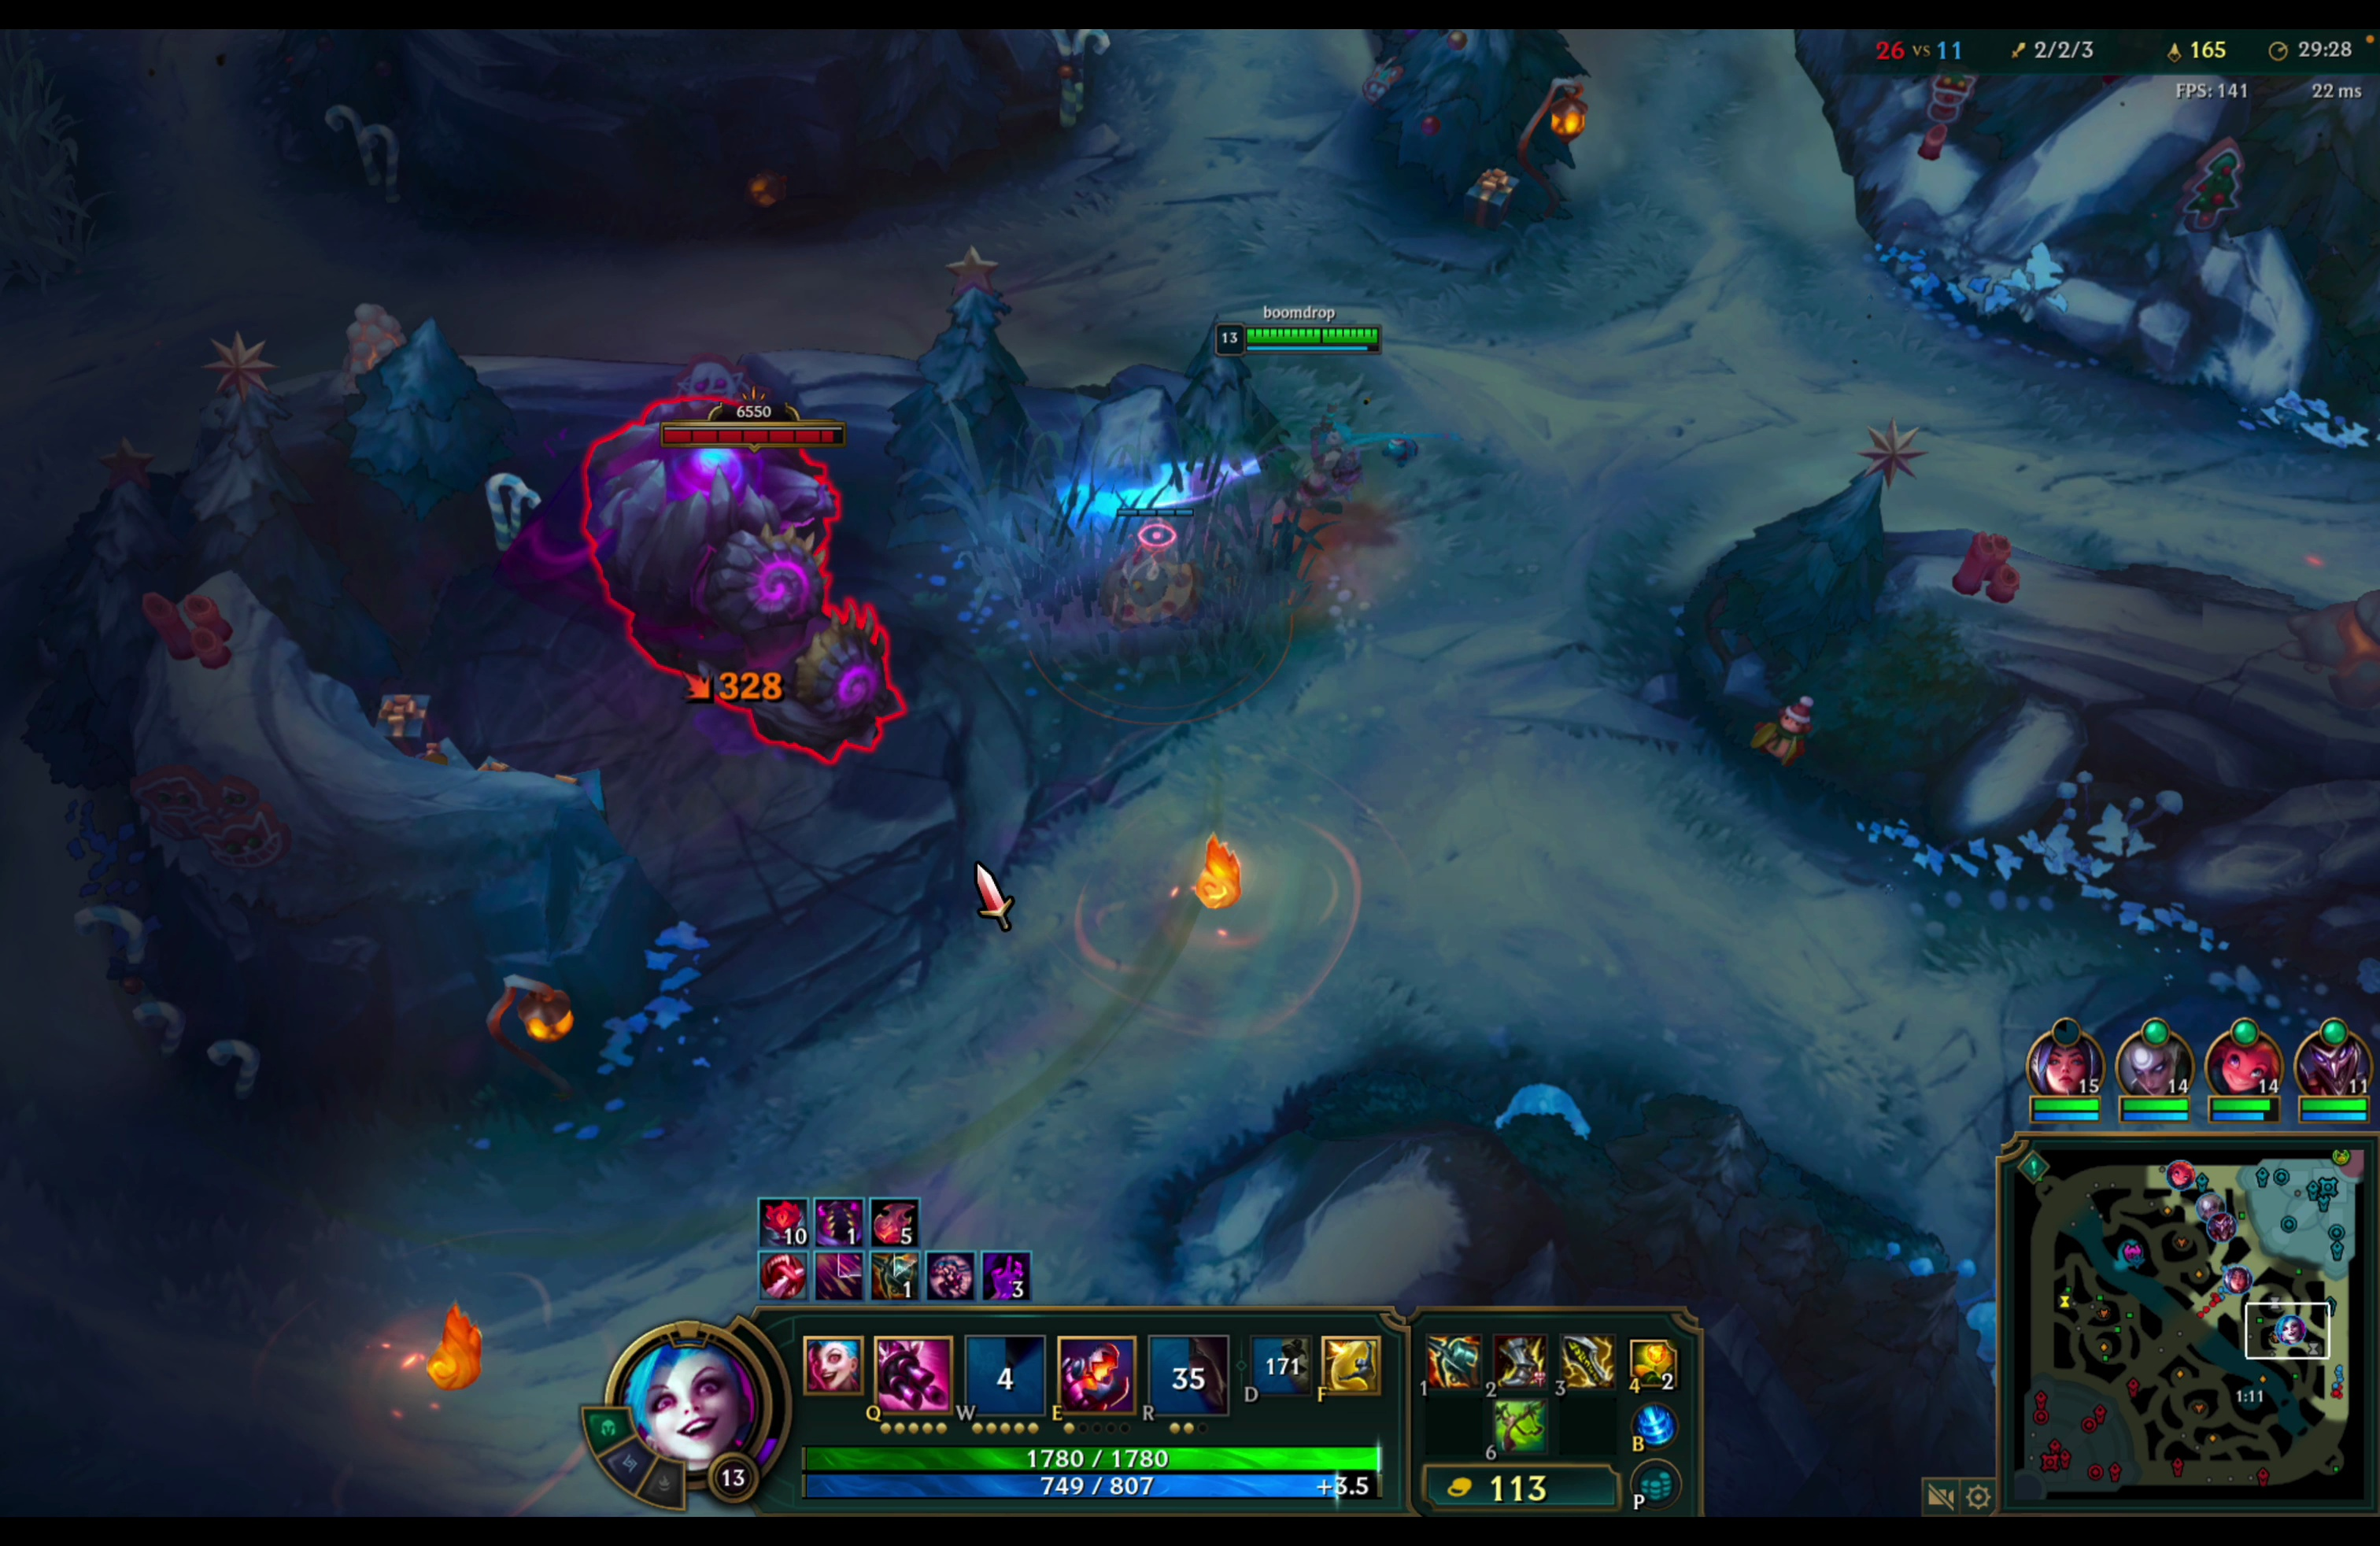JINX_W_PROJECTILE: (1029, 298, 1402, 644)
